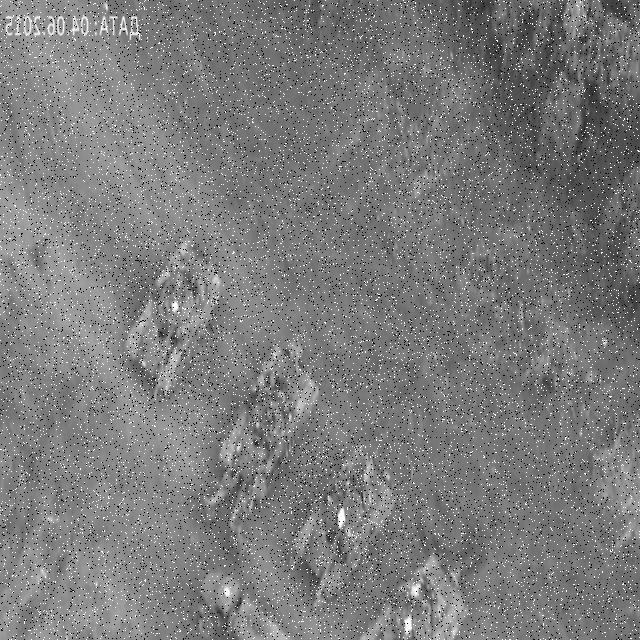MIL_MBT: (288, 443, 403, 615), (221, 346, 320, 516), (122, 235, 220, 406)
